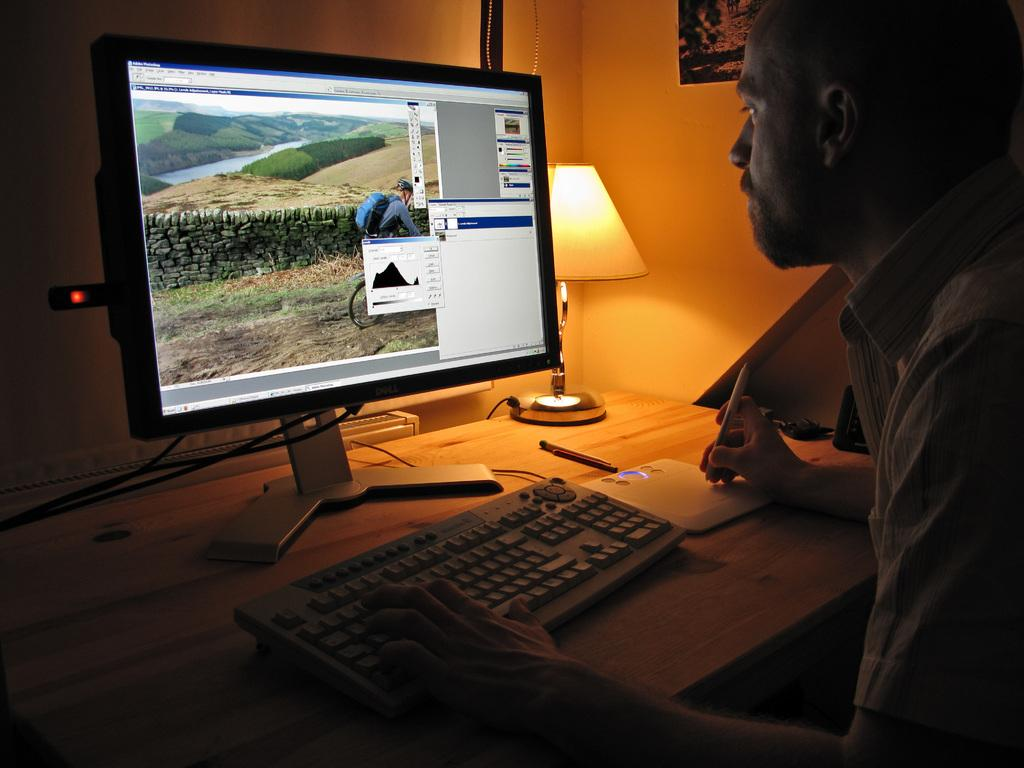Computer-keyboard: (227, 475, 690, 716)
Computer-monitor: (79, 41, 585, 493)
